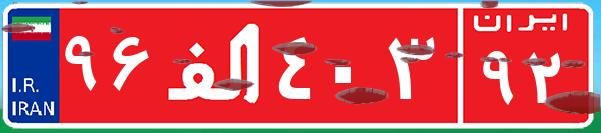0: (330, 28, 385, 110)
2: (525, 38, 570, 115)
3: (385, 28, 445, 110)
4: (273, 28, 330, 110)
6: (110, 28, 158, 105)
9: (57, 26, 110, 107), (475, 38, 525, 113)
الف: (158, 15, 273, 115)
